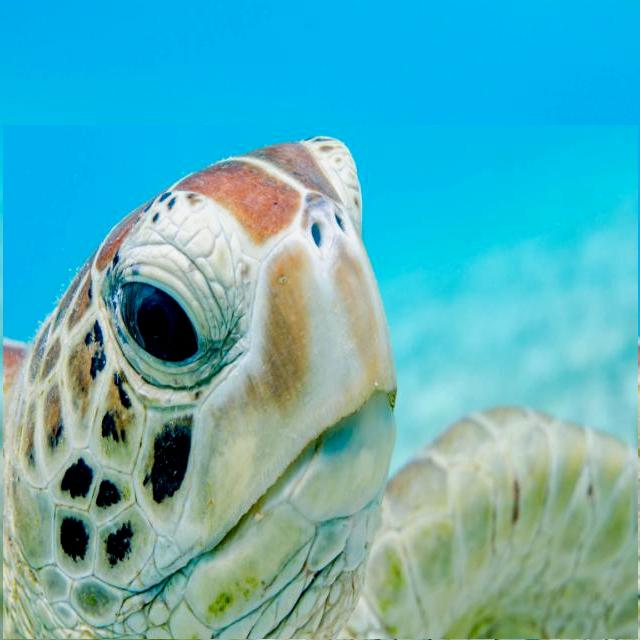Sea turtle: (3, 125, 640, 639)
